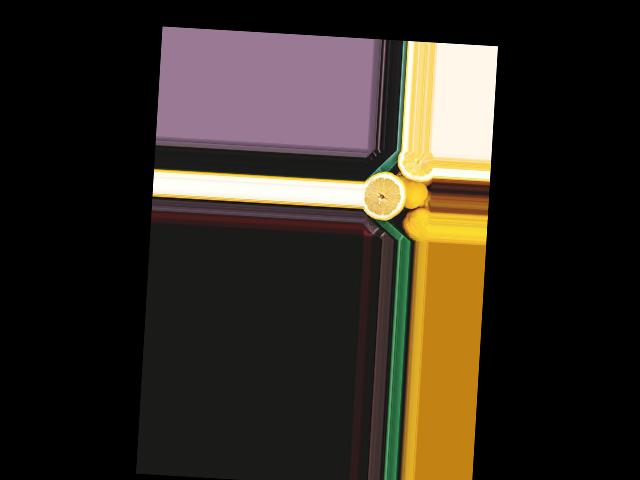lemon: (397, 174, 430, 209)
